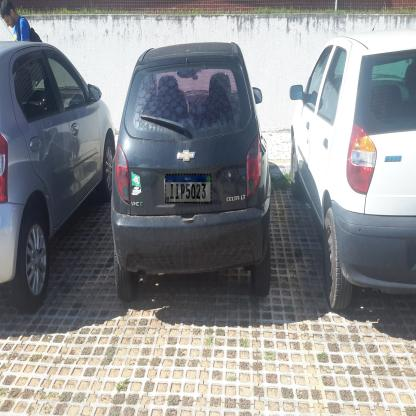PlacaM: (165, 174, 212, 204)
